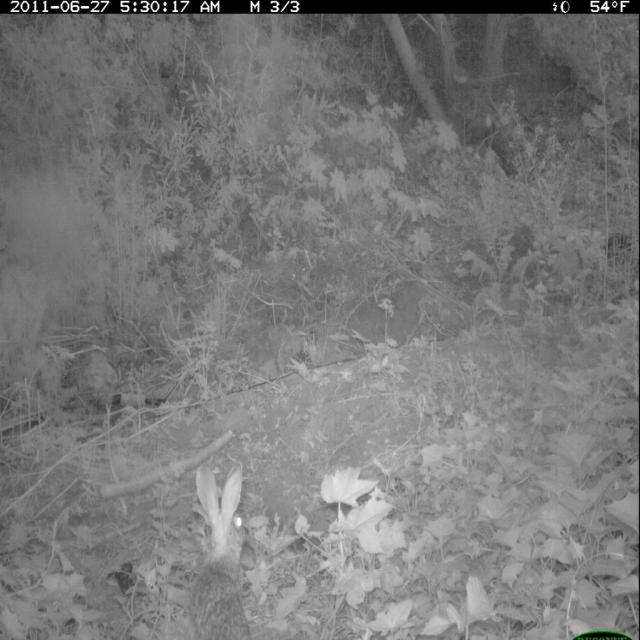rabbit: (182, 462, 258, 640)
